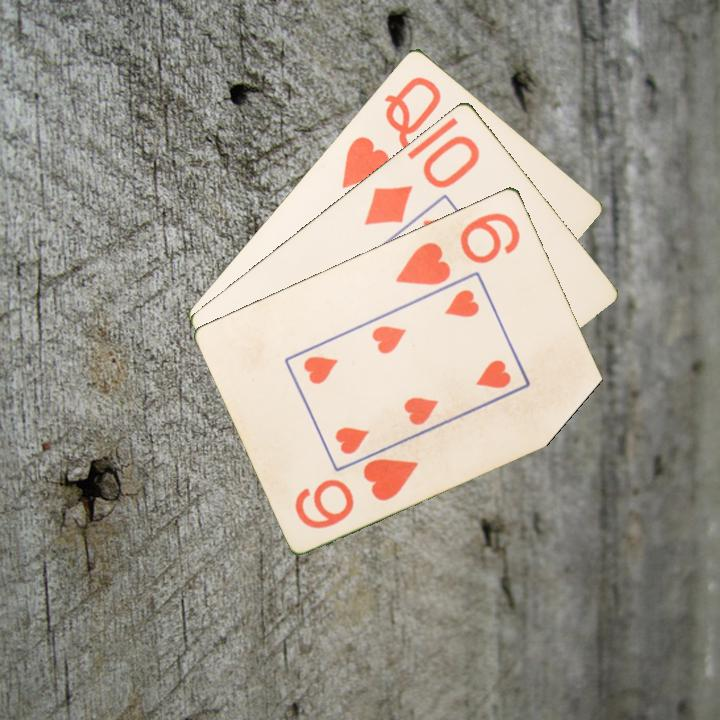10d: (360, 131, 483, 228)
6h: (391, 208, 524, 288), (291, 452, 422, 531)
Qh: (338, 72, 444, 191)
